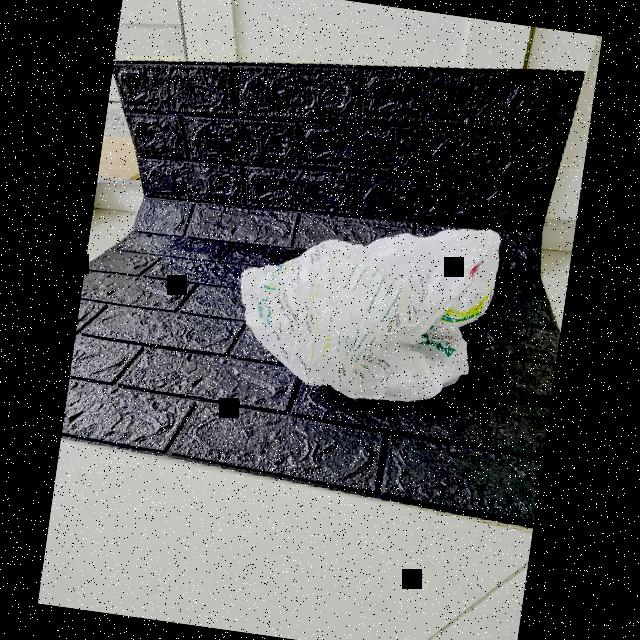plastic_bag: (224, 194, 507, 418)
